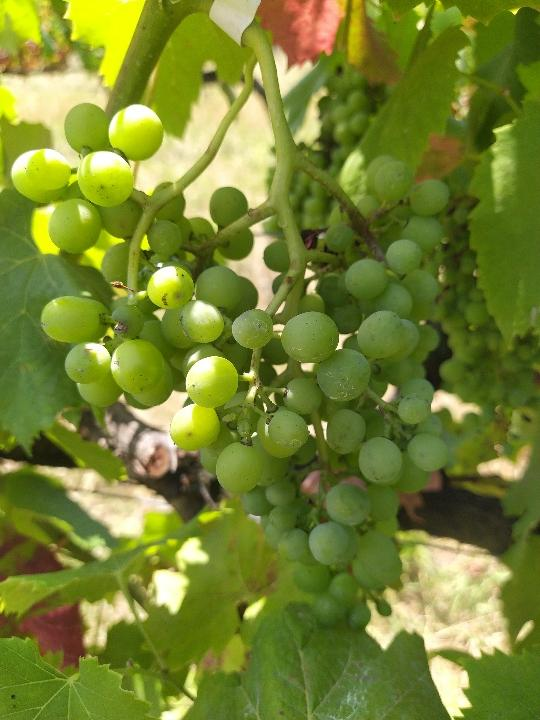grape: (7, 98, 455, 634)
